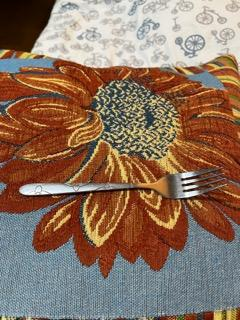fork: (18, 164, 229, 202)
